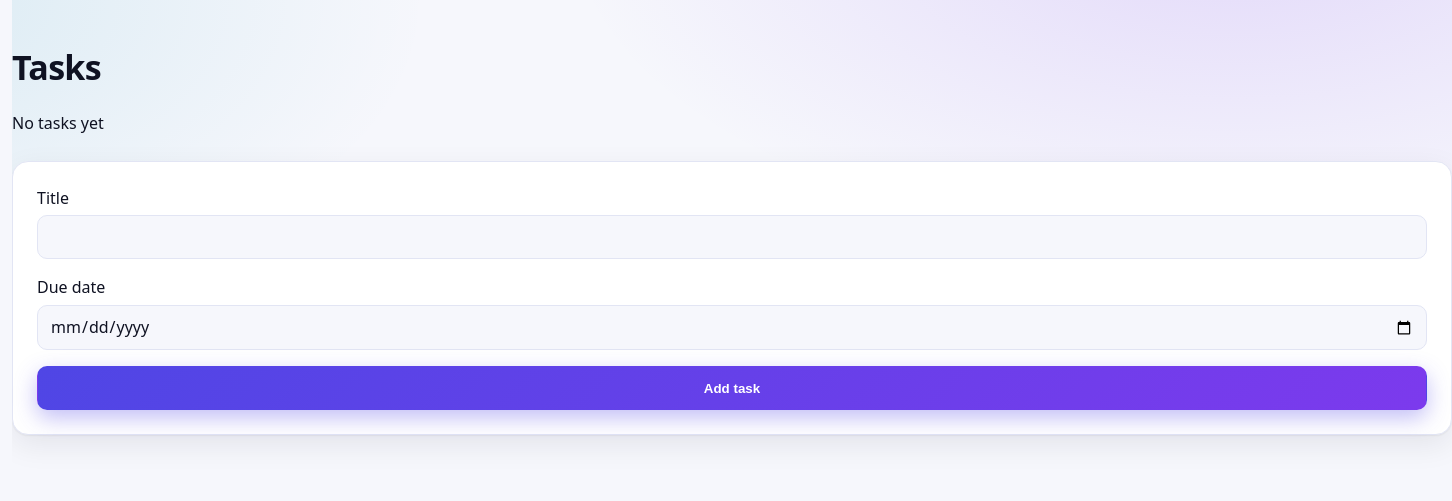
Test: task board interactions › shows the save error
The image size is (1452, 501).
Step 1. Type "Buy milk" into the field labelled "Title" → (732, 237), box [37, 215, 1427, 259]
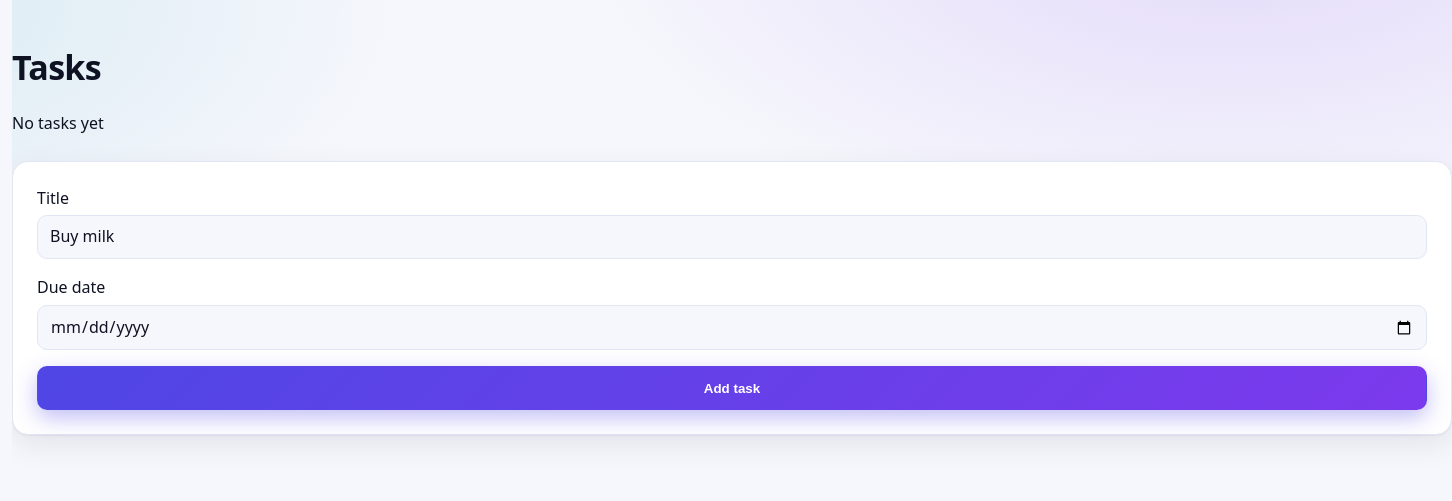
Step 2. Click the button "Add task" → (732, 388), box [37, 366, 1427, 410]
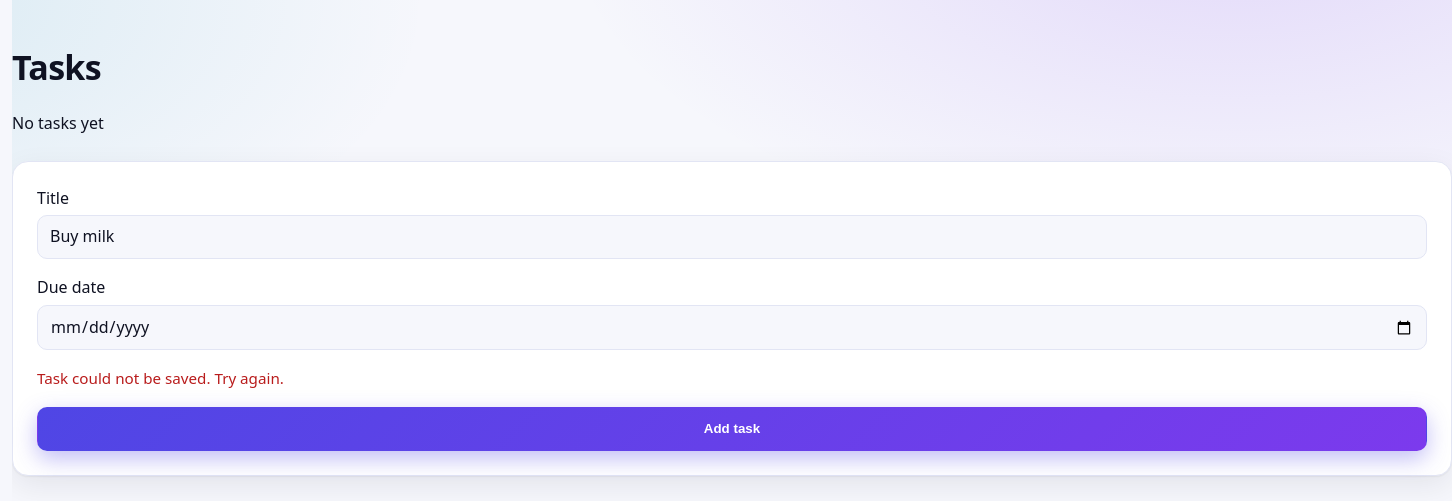
Check: the text "Task could not be saved. Try again." is shown, box [37, 368, 284, 388]
